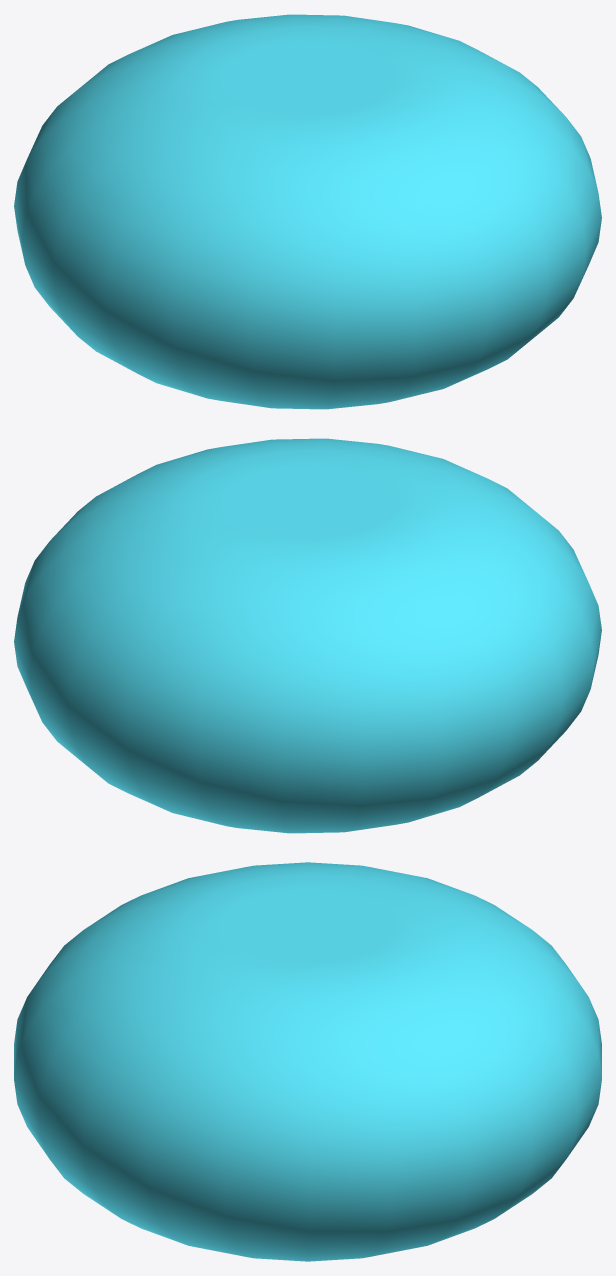
Rendered from SM_FloorLight_002_e.FBX.
3 renders of one model, top to bottom at view 1: azimuth 30°, elevation 25°; view 2: azimuth 150°, elevation 25°; view 3: azimuth 270°, elevation 25°, orthographic.
Parts seen in each view (by area): view 1: SM_FloorLight_002_e; view 2: SM_FloorLight_002_e; view 3: SM_FloorLight_002_e.
Boxes of the visible parts, x1,y1,x2,y2 form: SM_FloorLight_002_e: [14, 14, 601, 409]; SM_FloorLight_002_e: [14, 438, 601, 833]; SM_FloorLight_002_e: [14, 862, 601, 1261].
Bounding box in the file's own units: 38.23 × 37.84 × 19.64.
